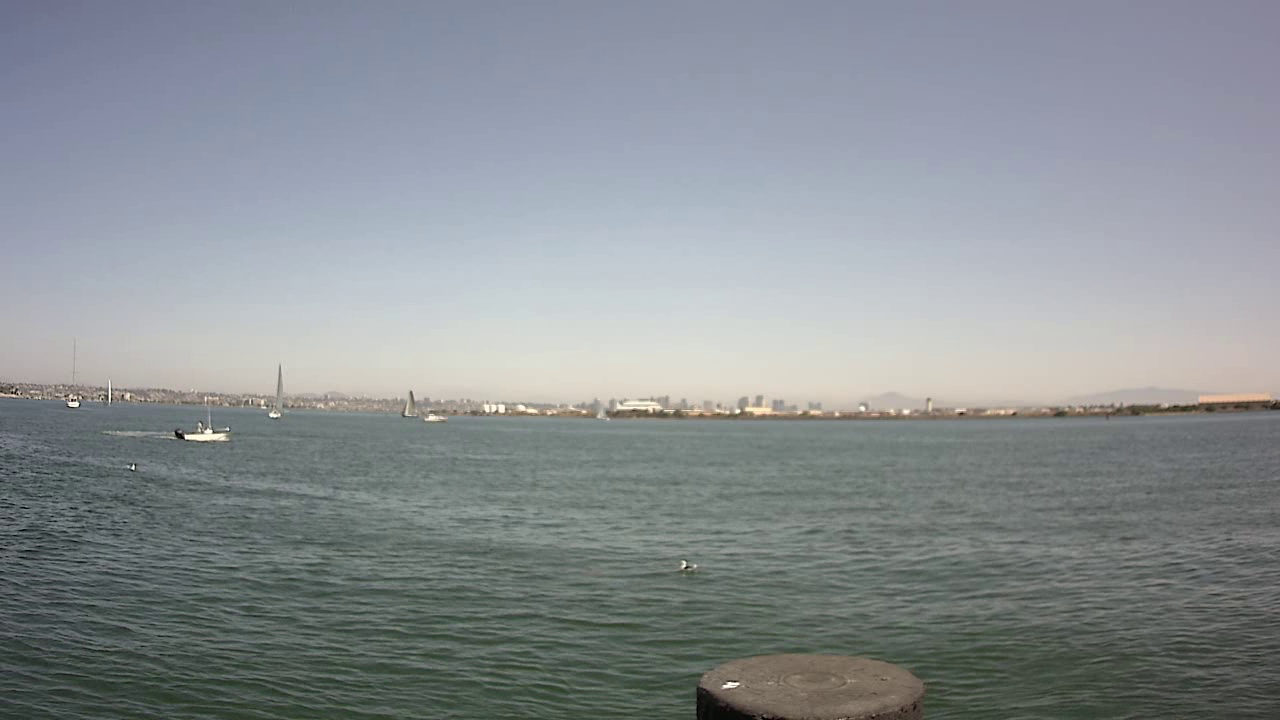target: (167, 411, 237, 447)
